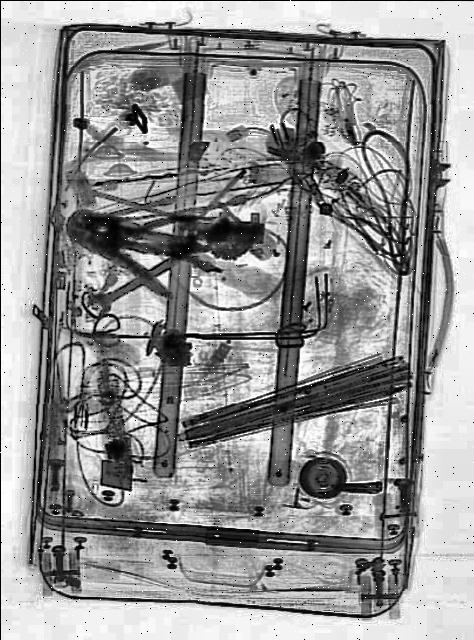Pliers: (57, 190, 192, 302)
Wrench: (86, 247, 184, 323)
